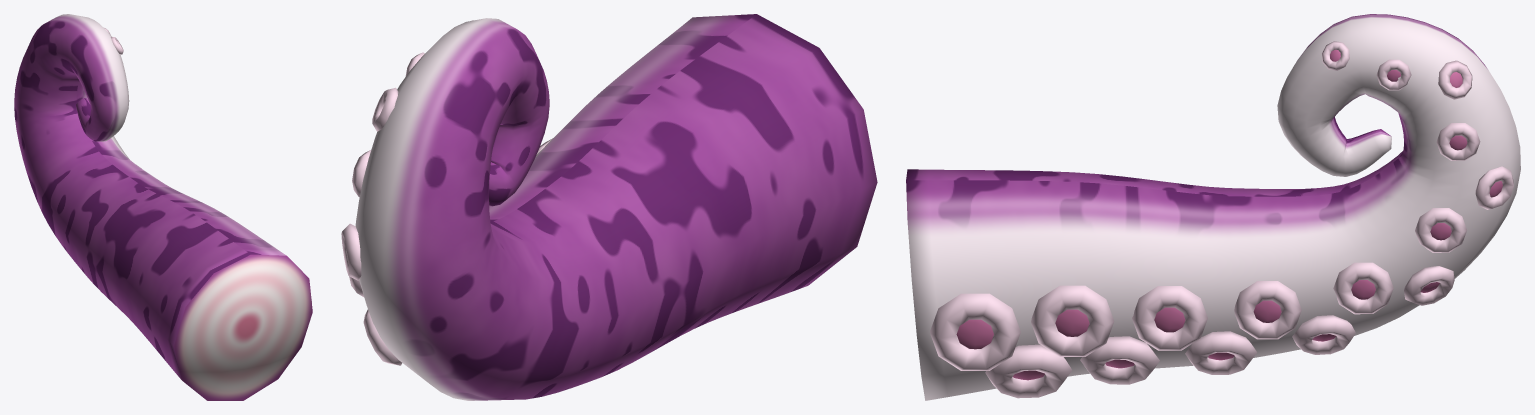
The model's file is SquidChunk.glb.
3 renders of one model, left to right at view 1: azimuth 30°, elevation 25°; view 2: azimuth 150°, elevation 25°; view 3: azimuth 270°, elevation 25°, orthographic. The views are drawn at different scales.
Visible parts, largest first — view 1: SquidChunk; view 2: SquidChunk; view 3: SquidChunk.
Boxes of the visible parts, x1=… form: SquidChunk: x1=14, y1=14, x2=312, y2=400; SquidChunk: x1=341, y1=14, x2=877, y2=400; SquidChunk: x1=906, y1=14, x2=1520, y2=400.
Bounding box in the file's own units: 0.4215 × 0.7274 × 1.07.
Materials: 1 (1 with a texture image).
